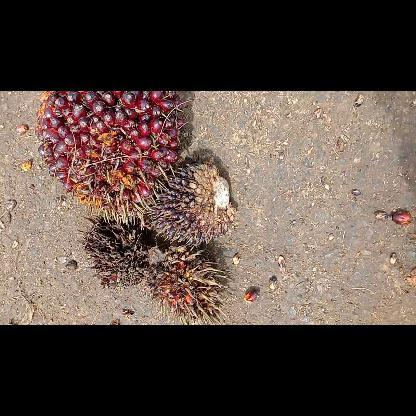TBS abnormal: (150, 156, 238, 246), (144, 246, 230, 324), (80, 207, 150, 289)
TBS masak: (32, 91, 182, 212)
